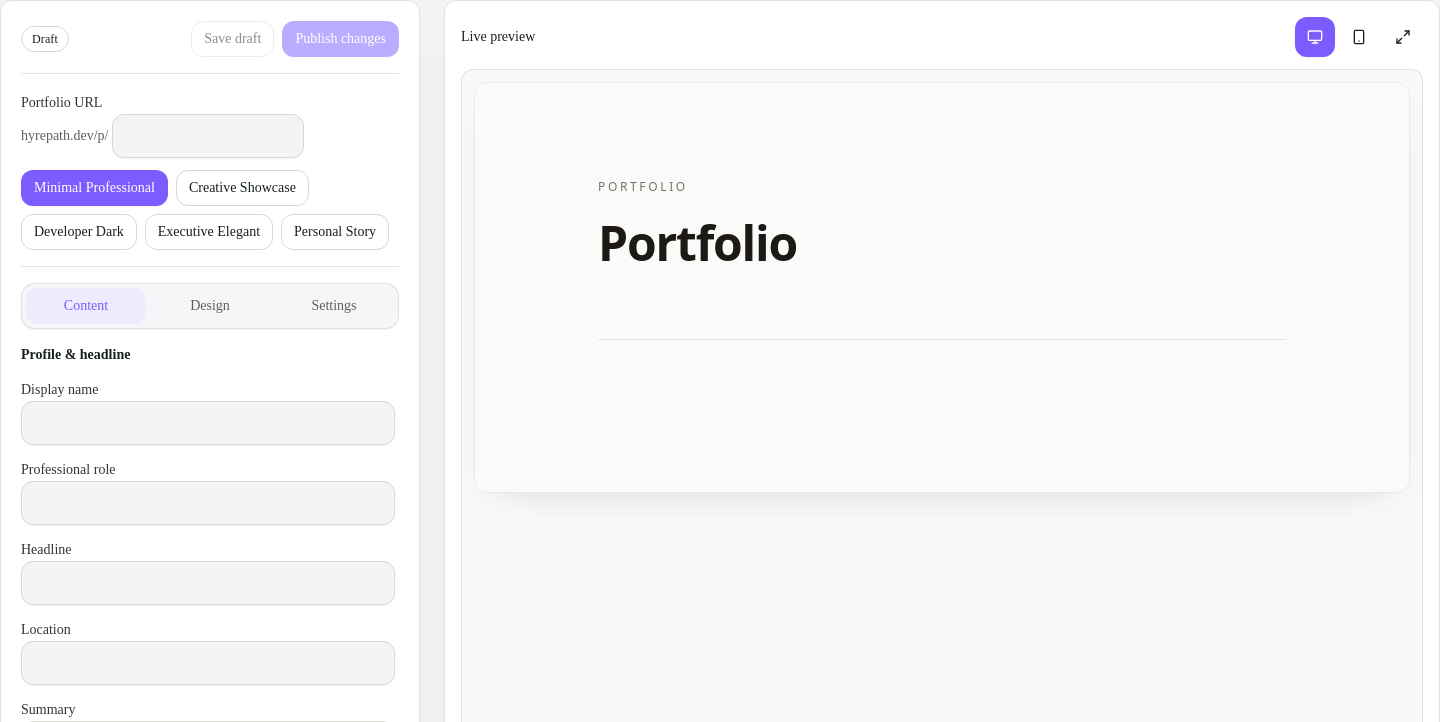
Test: PortfolioEditor (Portfolio Studio) › enables save draft once a valid slug is entered
Expected: the button "Save draft" is disabled, [191, 21, 274, 57]
Type "abc" into the field labelled "Portfolio URL" at [208, 136], box [112, 114, 304, 158]
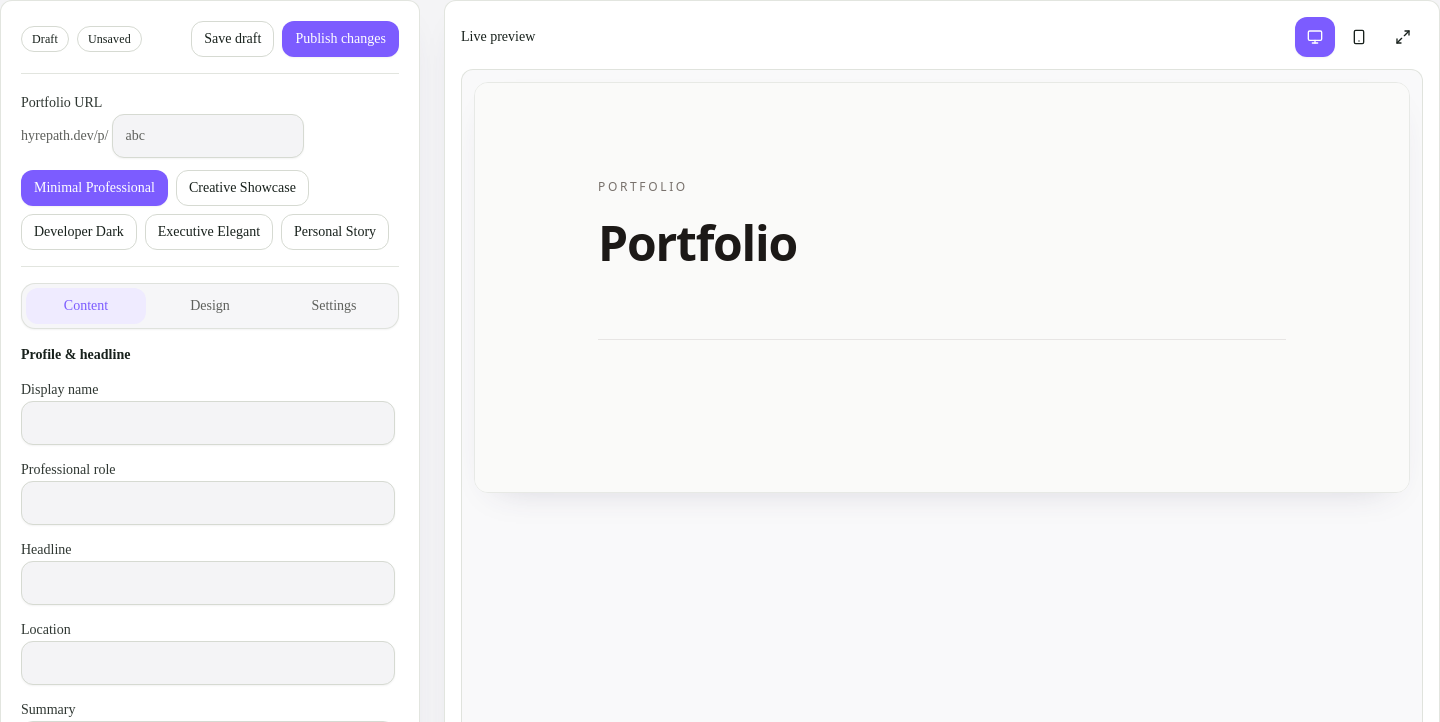
Expected: the button "Save draft" is enabled, [191, 21, 274, 57]
